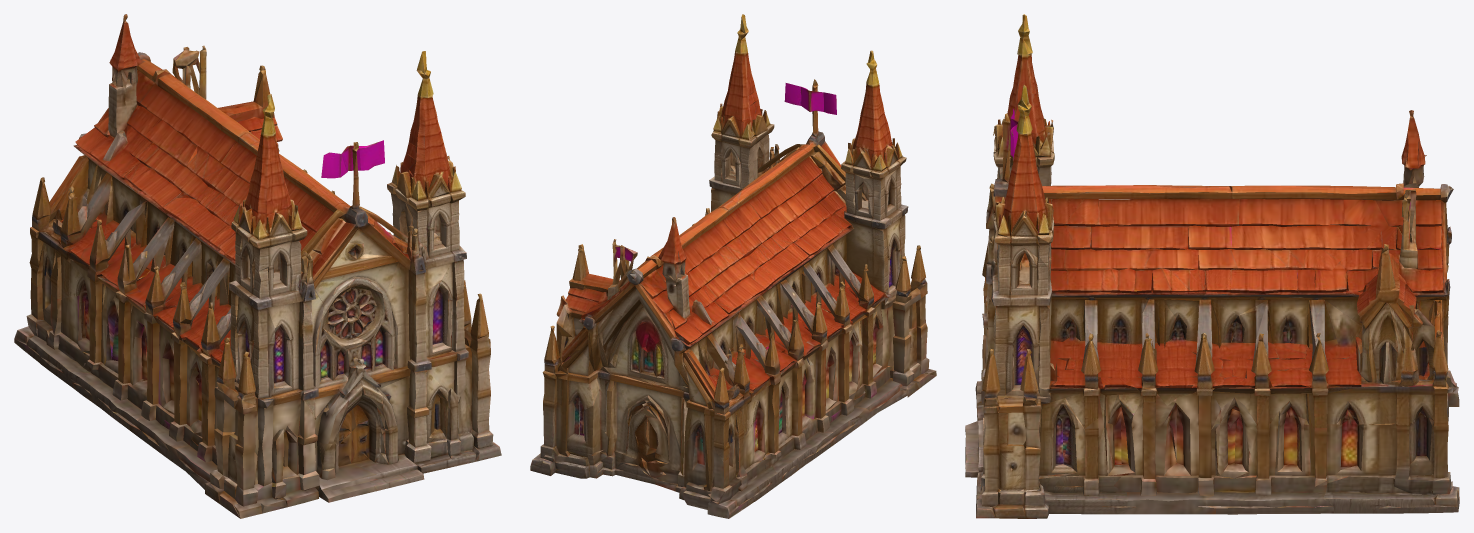
The model's file is chapel3.glb.
The picture shows the model from 3 angles, left to right: view 1: azimuth 30°, elevation 25°; view 2: azimuth 150°, elevation 25°; view 3: azimuth 270°, elevation 25°; orthographic projection. The views are drawn at different scales.
Parts seen in each view (by area): view 1: Mesh_0; view 2: Mesh_0; view 3: Mesh_0.
Part boxes in pixels (x1,y1,x2,y2): Mesh_0: (14,14,501,518); Mesh_0: (530,14,936,518); Mesh_0: (965,14,1459,518).
Bounding box in the file's own units: 1.18 × 1.72 × 1.9.
Materials: 1 (1 with a texture image).
